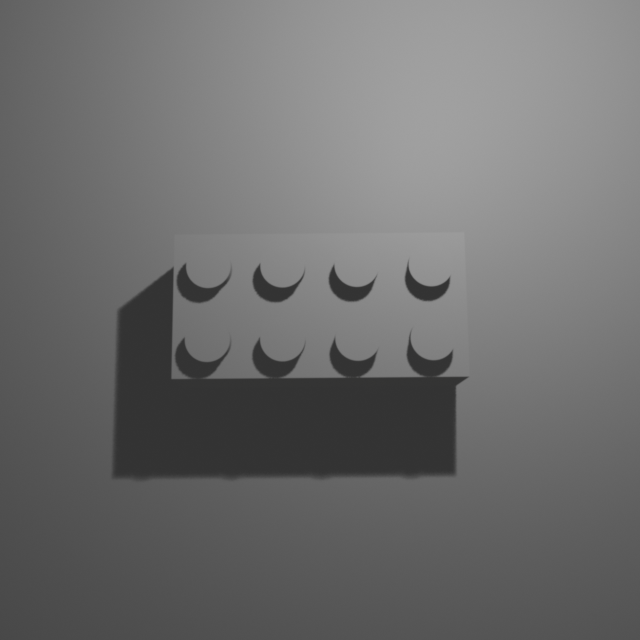lego_2x4: (169, 228, 472, 388)
